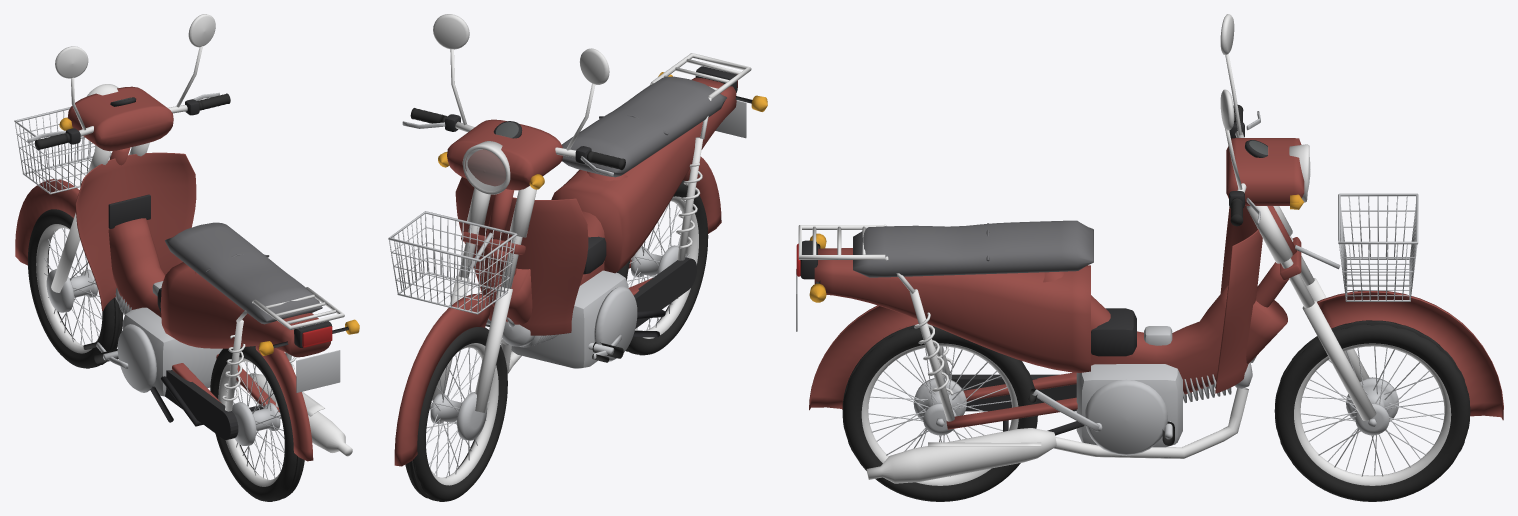
Rendered from moto.glb.
3 renders of one model, left to right at view 1: azimuth 30°, elevation 25°; view 2: azimuth 150°, elevation 25°; view 3: azimuth 270°, elevation 25°, orthographic. The views are drawn at different scales.
Visible parts, largest first — view 1: body, handlebar, wheel_r, wheel_f, light_tail; view 2: body, handlebar, wheel_f, wheel_r, light_head; view 3: body, handlebar, wheel_f, wheel_r.
Part boxes in pixels (<box>): body: <box>75,147,359,461</box>; handlebar: <box>14,14,230,292</box>; wheel_r: <box>210,346,304,501</box>; wheel_f: <box>27,209,123,368</box>; light_tail: <box>302,326,332,347</box>; body: <box>455,53,767,373</box>; handlebar: <box>388,14,625,466</box>; wheel_f: <box>405,327,507,501</box>; wheel_r: <box>617,180,708,355</box>; light_head: <box>465,149,505,191</box>; body: <box>796,206,1296,483</box>; handlebar: <box>1220,14,1503,420</box>; wheel_f: <box>1274,320,1470,501</box>; wheel_r: <box>842,324,1037,501</box>.
Size of the model in its own units: 0.7414 by 1.39 by 2.
